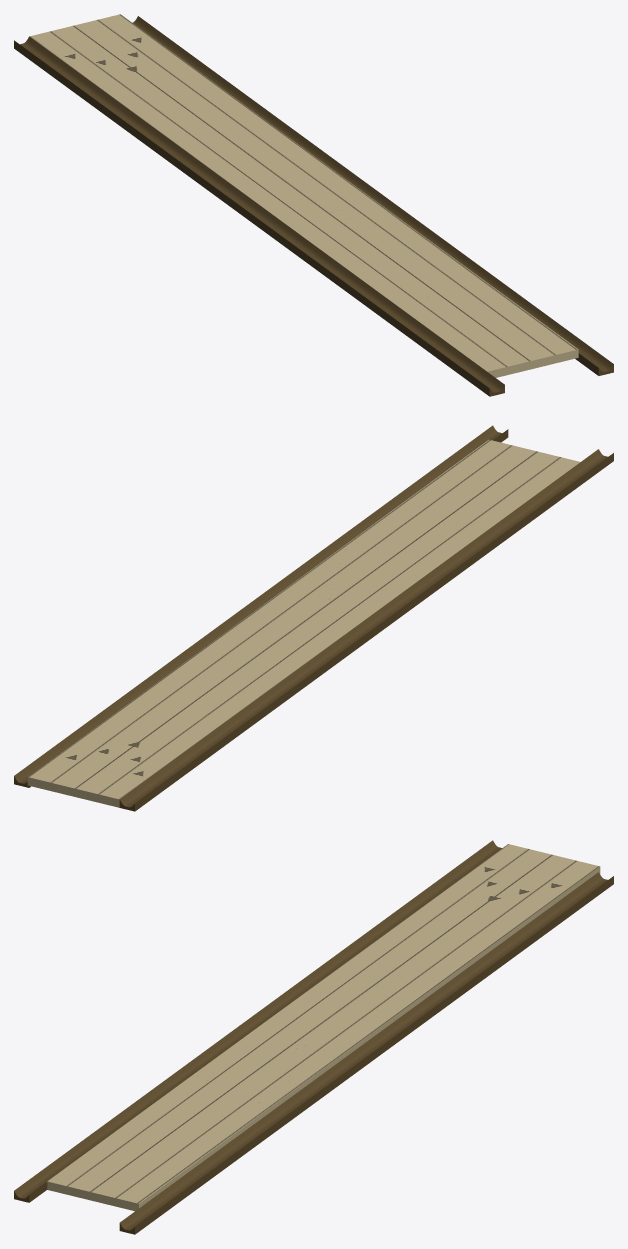
The model's file is PistaBolichefbx.fbx.
3 renders of one model, top to bottom at view 1: azimuth 30°, elevation 25°; view 2: azimuth 150°, elevation 25°; view 3: azimuth 330°, elevation 25°, orthographic.
Visible parts, largest first — view 1: Cube, Tunel; view 2: Cube, Tunel; view 3: Cube, Tunel.
Part boxes in pixels (x1=…): Cube: x1=29, y1=14, x2=578, y2=377; Tunel: x1=14, y1=16, x2=613, y2=396; Cube: x1=27, y1=439, x2=580, y2=807; Tunel: x1=14, y1=425, x2=613, y2=811; Cube: x1=47, y1=844, x2=600, y2=1211; Tunel: x1=14, y1=840, x2=613, y2=1234.
Bounding box in the file's own units: 2003 × 195 × 13559.
